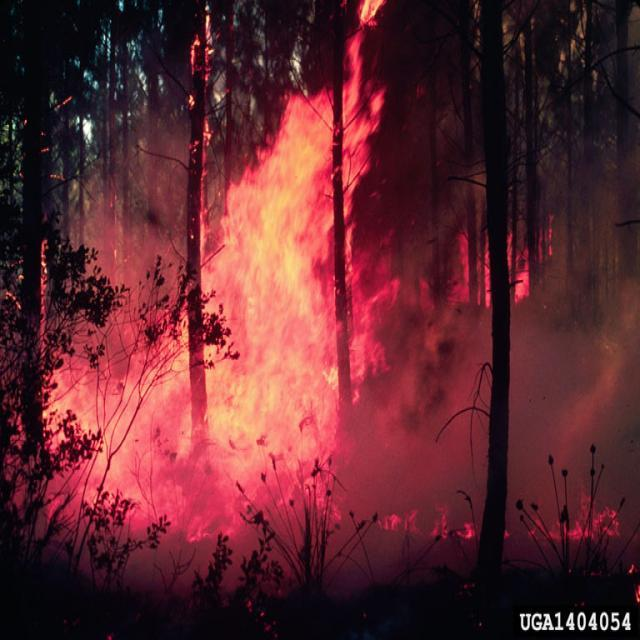Fire: (41, 0, 401, 543)
